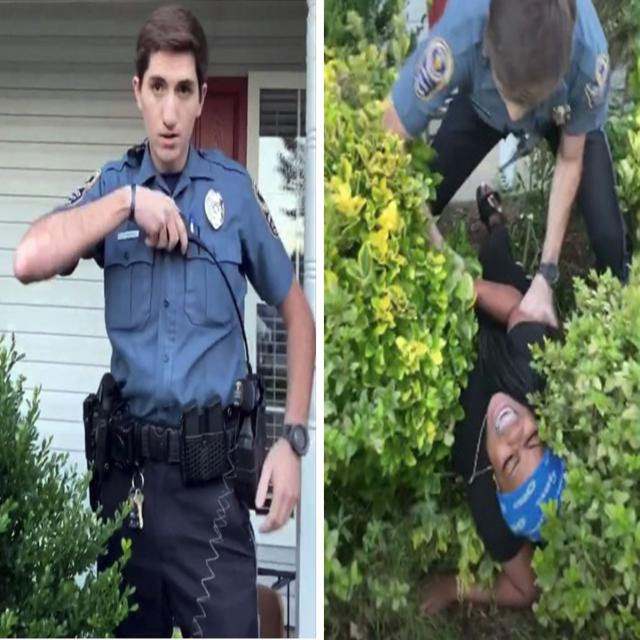police: (11, 0, 320, 640), (360, 0, 640, 309)
